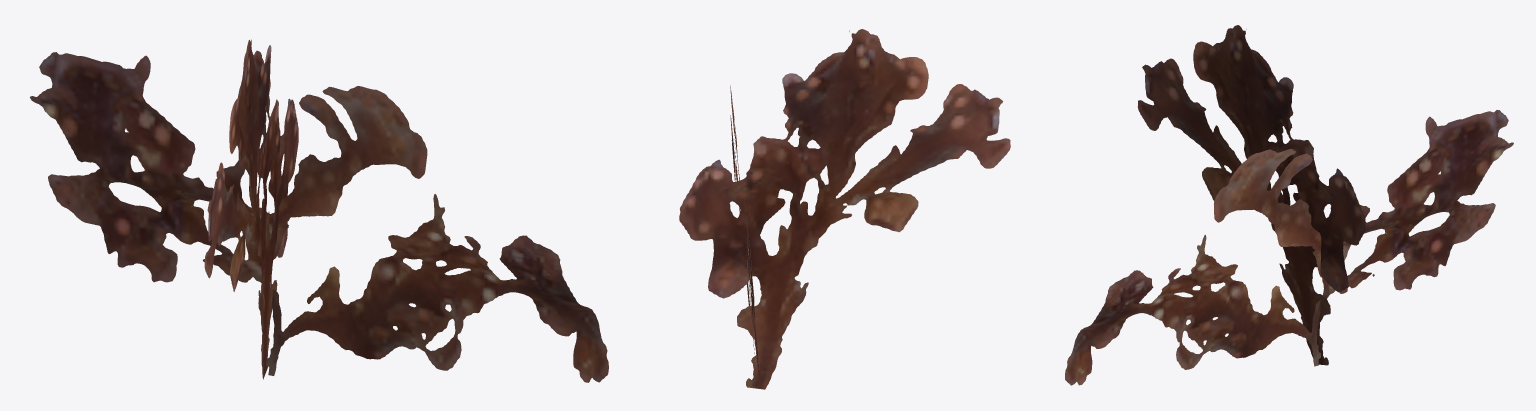
File: seaweed_3_11.FBX
3 renders of one model, left to right at view 1: azimuth 30°, elevation 25°; view 2: azimuth 150°, elevation 25°; view 3: azimuth 270°, elevation 25°, orthographic. The views are drawn at different scales.
Parts seen in each view (by area): view 1: seaweed_3_11; view 2: seaweed_3_11; view 3: seaweed_3_11.
Part boxes in pixels (x1,y1,x2,y2): seaweed_3_11: (30, 39, 608, 382); seaweed_3_11: (679, 29, 1010, 389); seaweed_3_11: (1065, 25, 1513, 385).
Bounding box in the file's own units: 13.47 × 13.89 × 17.96.
1 material, 1 textured.
